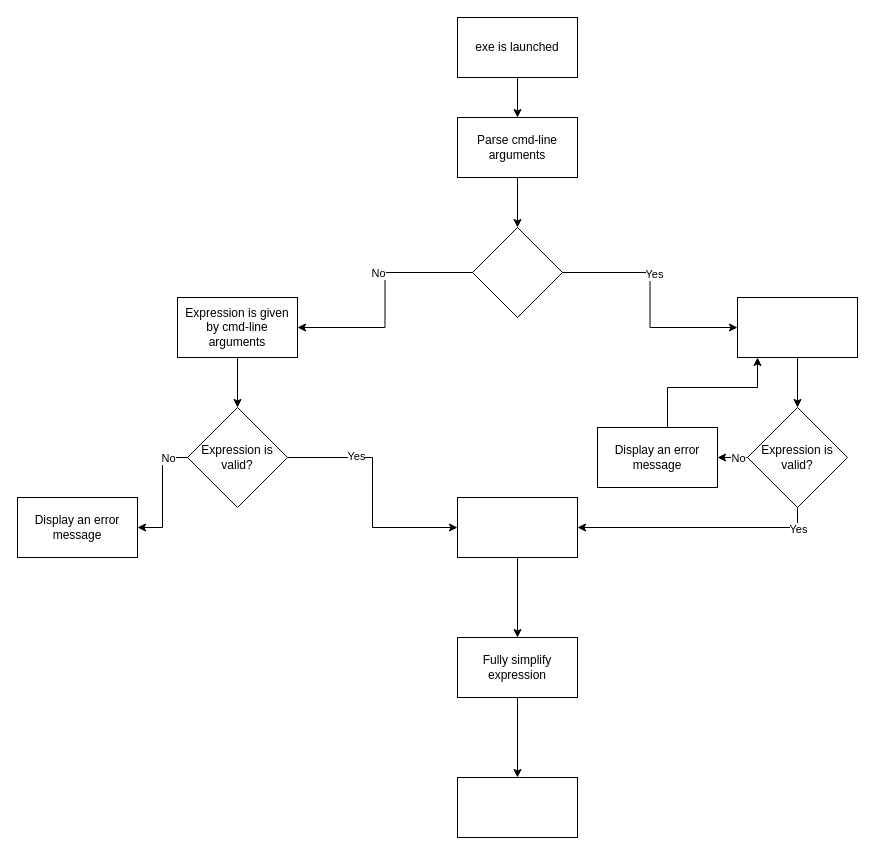
Image size: 875x855. Some labels were removed from this diagram. The box of each missing label's shape, as (x1, y1, x2, y2) in pixels:
Display simplified expression as a string: (456, 776, 578, 838)
Interactive mode?: (472, 226, 562, 318)
Parse Expression into AST: (456, 496, 578, 558)
Prompt for expression: (736, 296, 858, 358)
